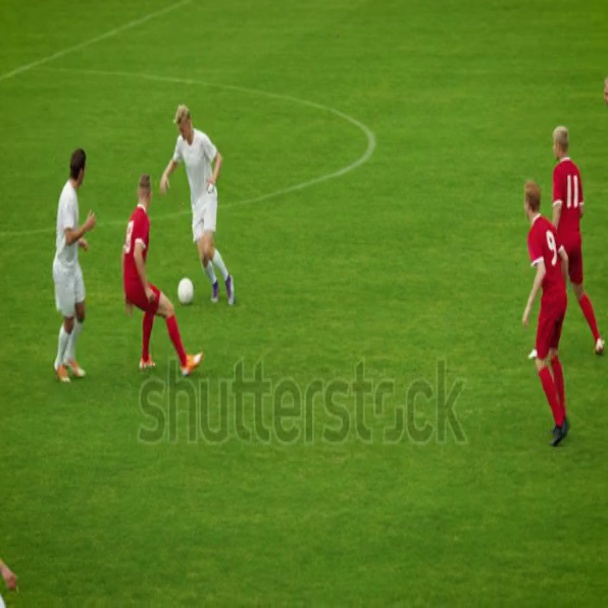ball: (179, 275, 197, 311)
